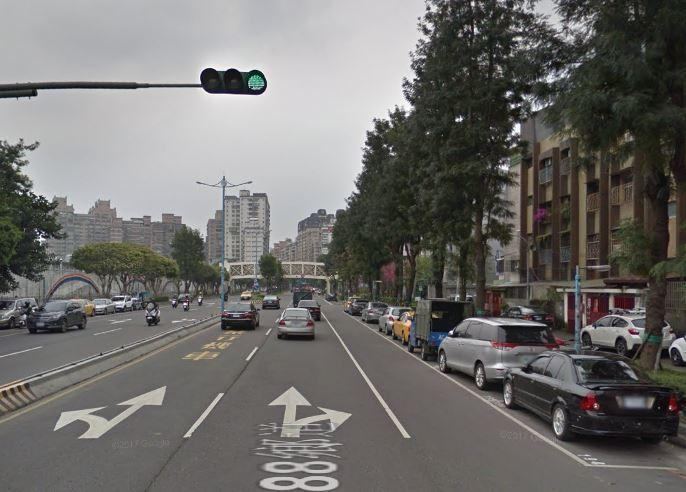car: (501, 351, 681, 462), (437, 315, 560, 393), (27, 298, 90, 334), (275, 301, 318, 342), (218, 295, 259, 332), (0, 295, 41, 328), (379, 304, 413, 337), (395, 310, 417, 342), (295, 298, 322, 320), (362, 301, 385, 323), (91, 297, 115, 316), (259, 293, 281, 311), (352, 296, 374, 313), (112, 295, 134, 311), (240, 288, 254, 300)
green_traffic_light: (196, 65, 268, 95)
motorcycle: (141, 300, 161, 326), (182, 293, 189, 312), (170, 293, 178, 308), (197, 289, 203, 307)
truck: (410, 296, 474, 362)
